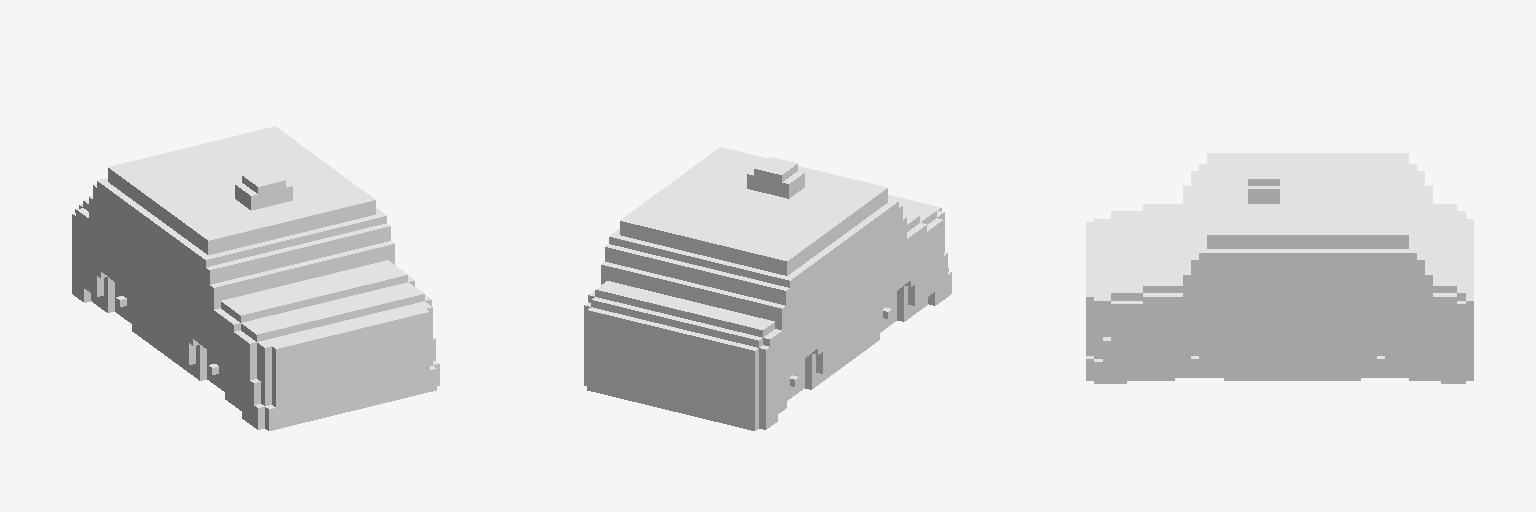
The model's file is auto3.obj.
The picture shows the model from 3 angles: view 1: azimuth 30°, elevation 25°; view 2: azimuth 150°, elevation 25°; view 3: azimuth 270°, elevation 25°; orthographic projection.
Visible parts, largest first — view 1: object 1; view 2: object 1; view 3: object 1.
Part boxes in pixels (x1,y1,x2,y2): object 1: (72,126,439,430); object 1: (584,147,951,430); object 1: (1086,153,1473,383).
Bounding box in the file's own units: 2.6 × 2.3 × 4.8.